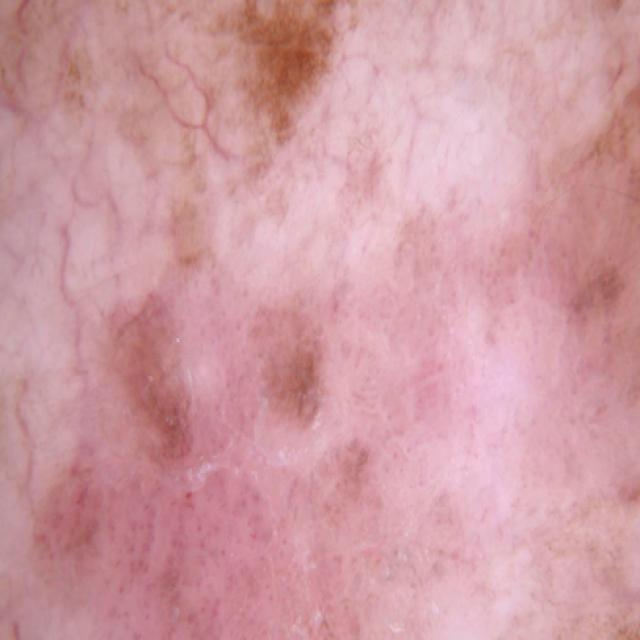Carcinoma: (10, 252, 229, 533), (222, 2, 408, 226), (260, 304, 364, 537)
